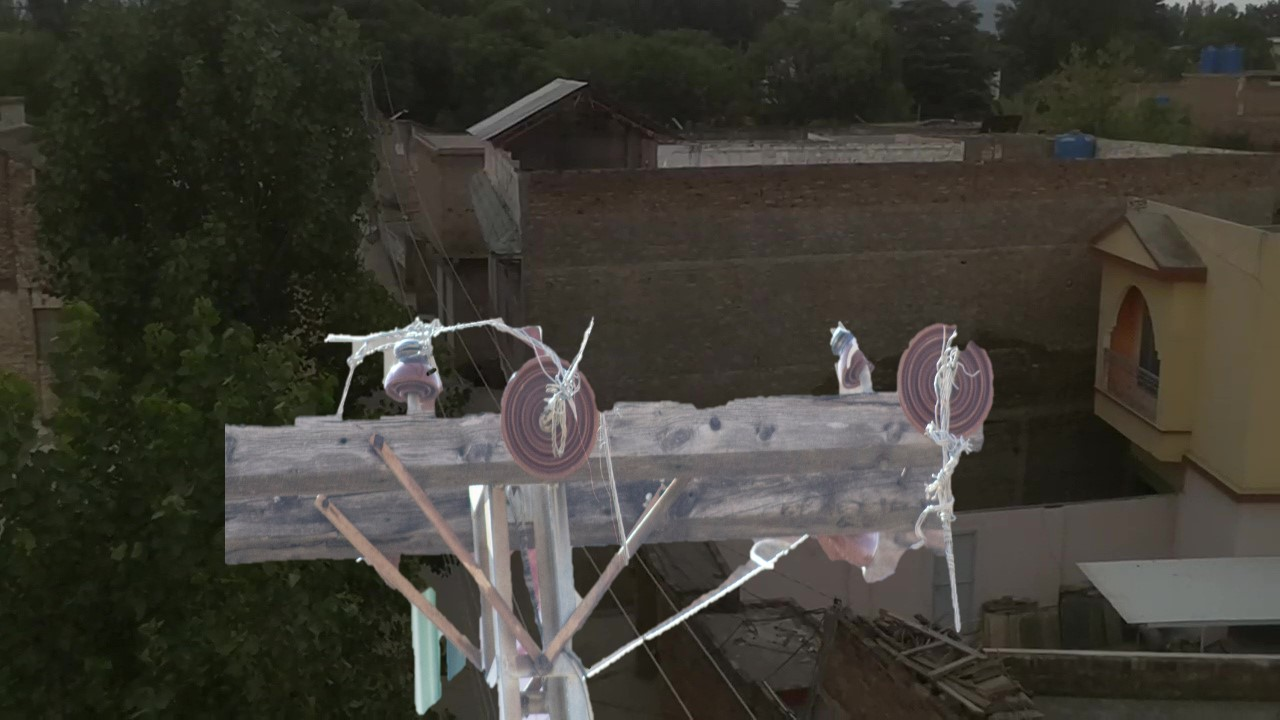defect_pin: (824, 318, 885, 404)
insulator_disc: (496, 350, 602, 476), (894, 318, 999, 443)
insulator_pin: (373, 326, 449, 407)
